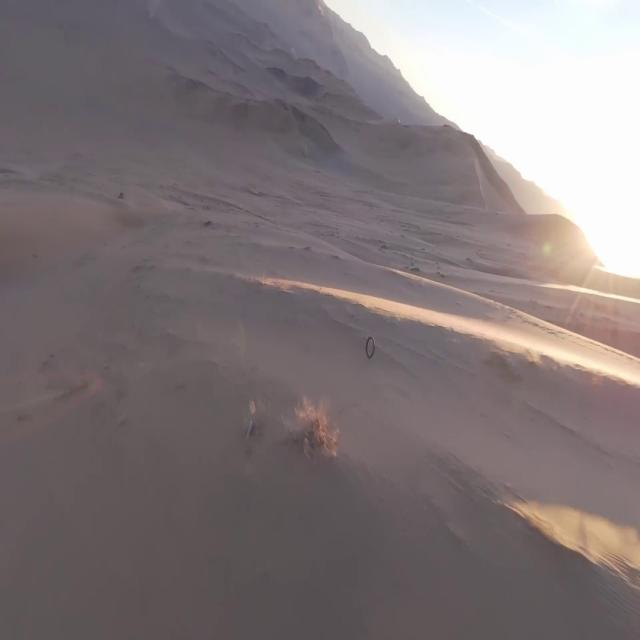Tire: (365, 336, 375, 359)
